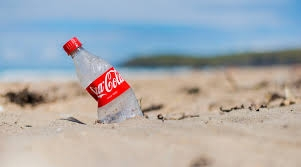plastic: (50, 34, 149, 126)
